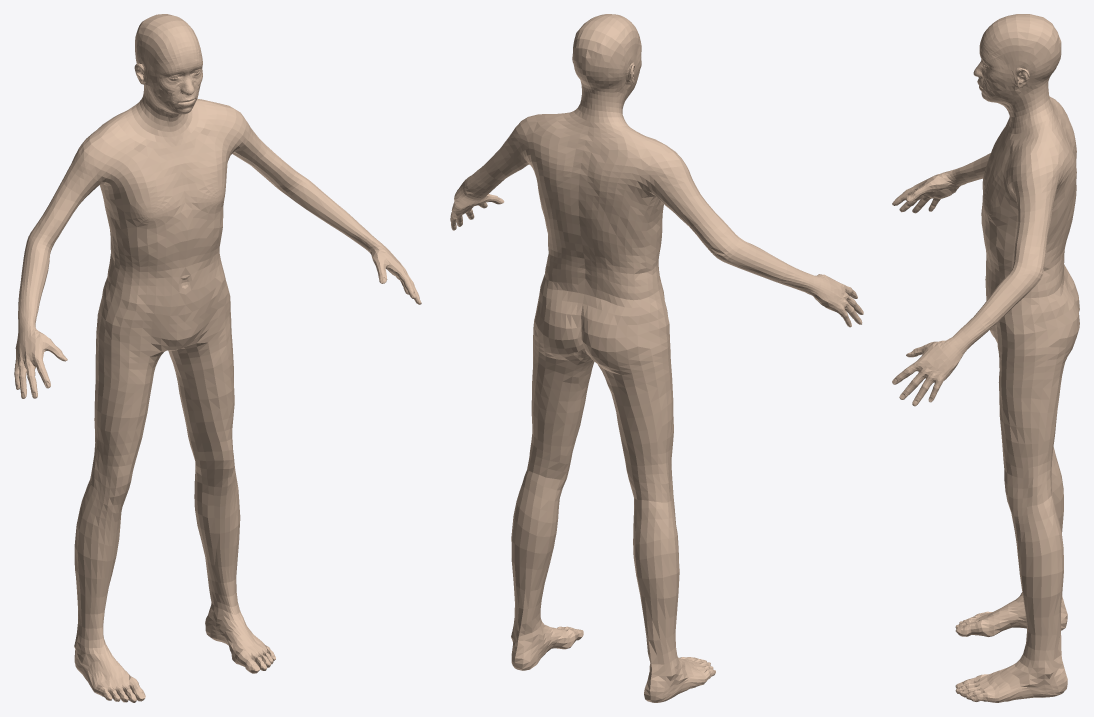
Rendered from male-mature-fit-low.glb.
3 views of the same model, side by side, from view 1: azimuth 30°, elevation 25°; view 2: azimuth 150°, elevation 25°; view 3: azimuth 270°, elevation 25° (orthographic).
Visible parts, largest first — view 1: world; view 2: world; view 3: world.
Boxes of the visible parts, box(x1,y1,x2,y2) form: world: box(14, 14, 421, 702); world: box(450, 14, 863, 702); world: box(892, 14, 1079, 702).
Bounding box in the file's own units: 1.25 × 1.94 × 0.5104.
